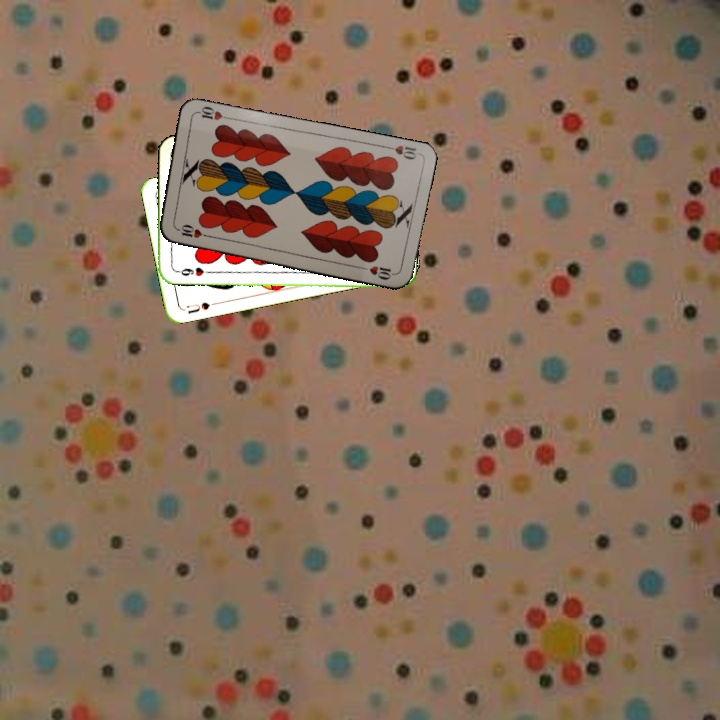H10: (381, 141, 421, 162), (172, 222, 212, 241)
H9: (171, 263, 211, 279)
SU: (180, 298, 220, 316)
